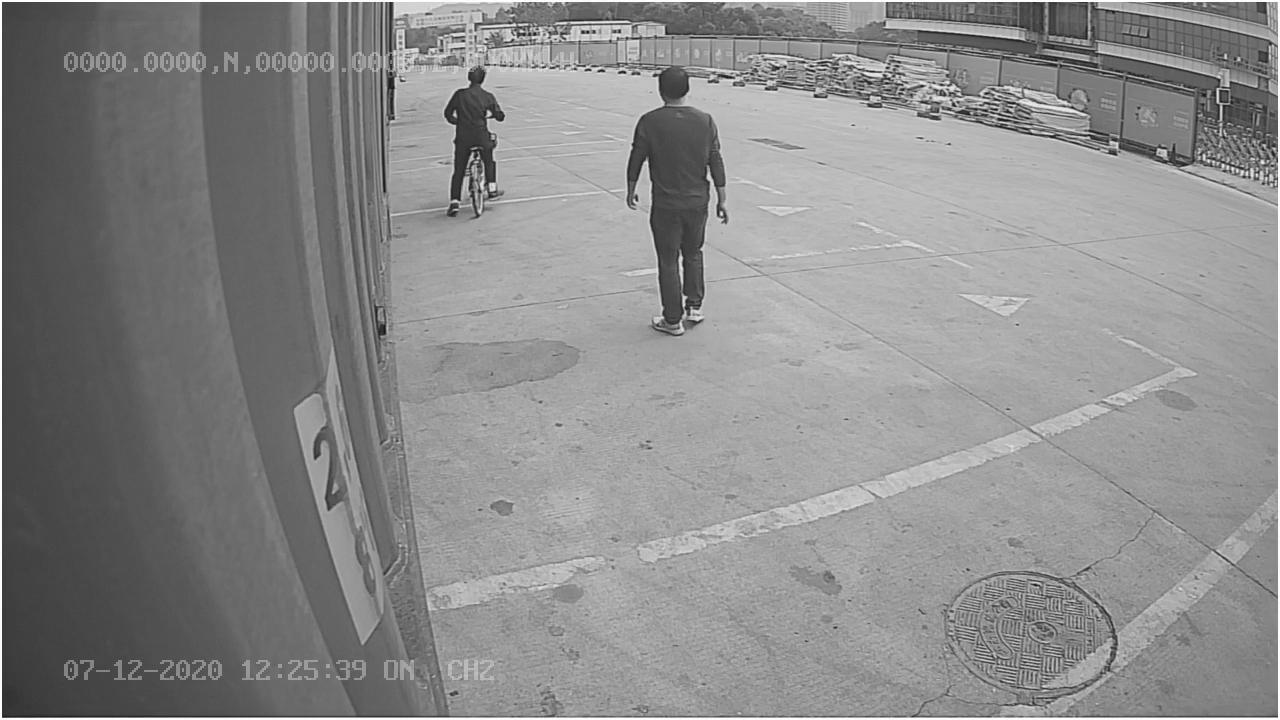person: (618, 62, 733, 339)
